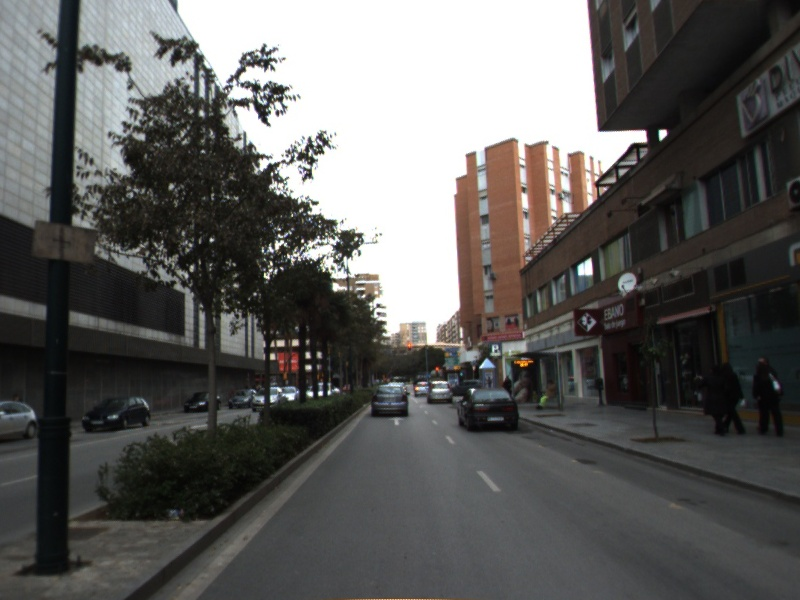STRAIGHT: (386, 415, 406, 427)
